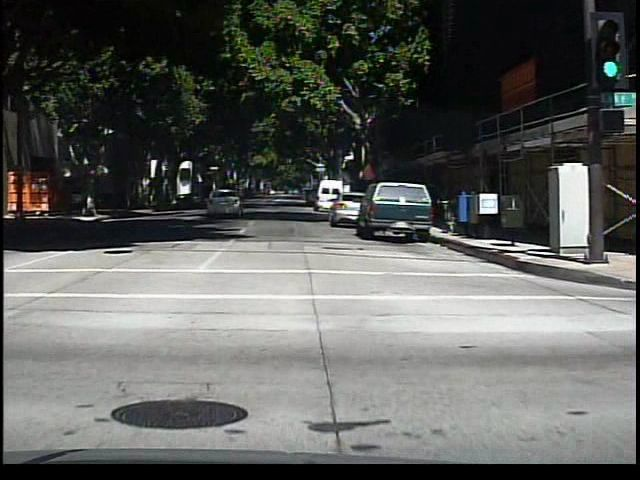person: (72, 184, 88, 219)
